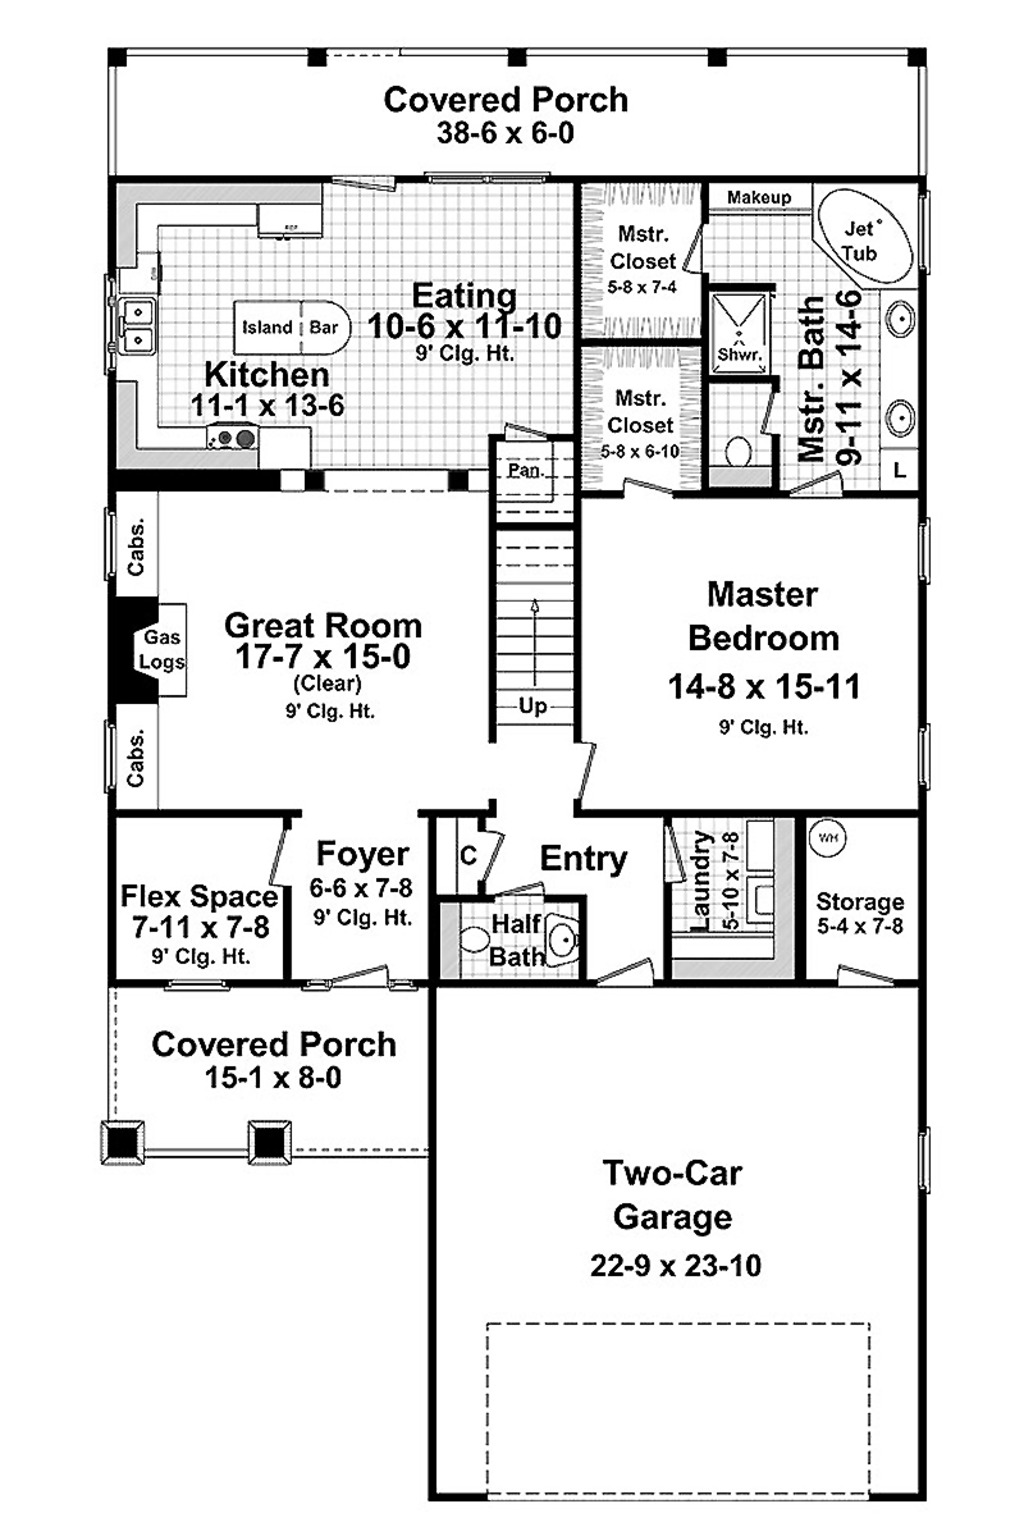door: (320, 958, 415, 1013), (271, 805, 318, 901), (560, 735, 611, 810), (618, 461, 693, 510), (590, 951, 667, 997), (822, 961, 899, 1000), (797, 463, 859, 507), (474, 821, 511, 891), (677, 224, 711, 286), (760, 386, 790, 440)
kitchen_bar: (192, 279, 389, 375)
large_sink: (711, 427, 789, 493), (434, 912, 504, 975)
small_sink: (869, 283, 920, 454)
stairs: (483, 482, 583, 758)
twin_sink: (97, 275, 174, 377)
window: (421, 151, 565, 198), (91, 719, 136, 805), (97, 517, 136, 584), (157, 965, 225, 997)
